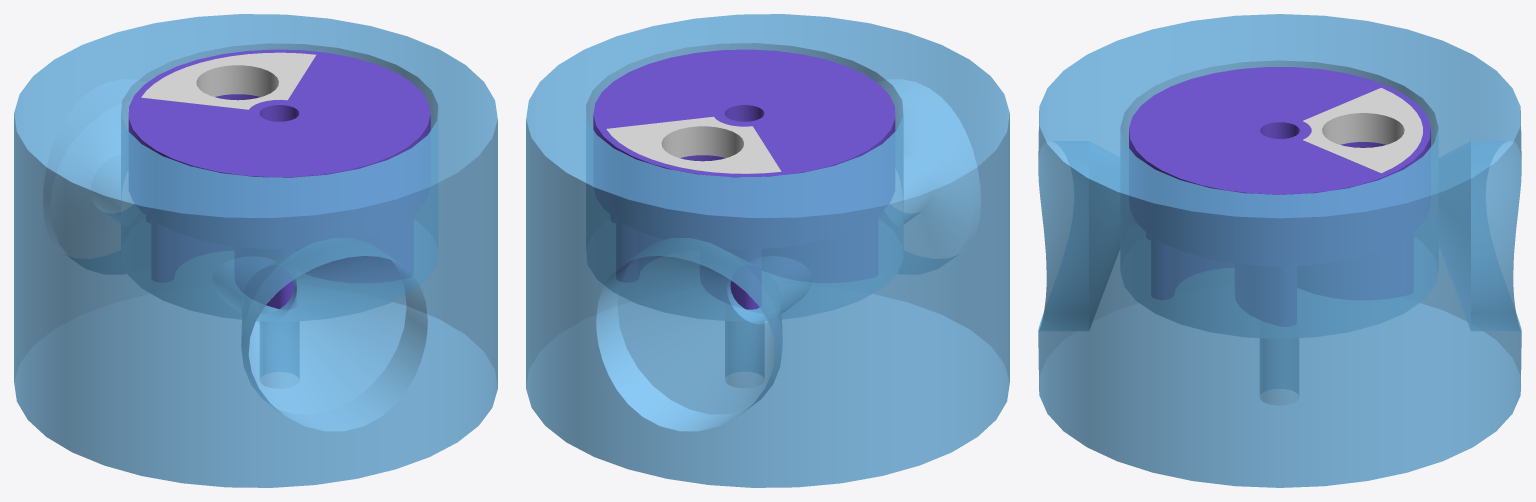
Rendered from flowmeter-v1.gltf.
3 views of the same model, side by side, from view 1: azimuth 30°, elevation 25°; view 2: azimuth 150°, elevation 25°; view 3: azimuth 270°, elevation 25° (orthographic).
Visible parts, largest first — view 1: Housing, Propeller-bicolor, Insert; view 2: Housing, Propeller-bicolor, Insert; view 3: Housing, Propeller-bicolor, Insert.
Boxes of the visible parts, x1=… form: Housing: x1=14, y1=14, x2=497, y2=487; Propeller-bicolor: x1=128, y1=49, x2=430, y2=309; Insert: x1=141, y1=52, x2=316, y2=109; Housing: x1=526, y1=14, x2=1009, y2=487; Propeller-bicolor: x1=593, y1=49, x2=895, y2=309; Insert: x1=606, y1=116, x2=781, y2=173; Housing: x1=1038, y1=14, x2=1521, y2=487; Propeller-bicolor: x1=1129, y1=67, x2=1430, y2=326; Insert: x1=1303, y1=88, x2=1422, y2=173.
Bounding box in the file's own units: 0.0304 × 0.0187 × 0.0304.
